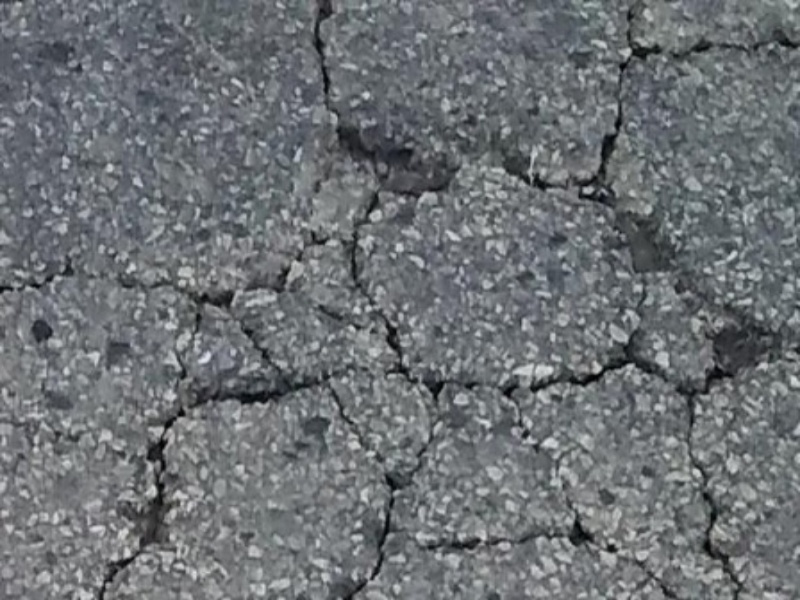crack: (89, 376, 317, 586), (302, 10, 448, 202), (439, 320, 738, 411), (5, 256, 358, 325), (330, 207, 459, 391), (412, 510, 663, 587), (664, 395, 760, 594), (323, 390, 401, 588), (581, 6, 641, 229), (620, 22, 800, 67), (206, 291, 302, 367)
